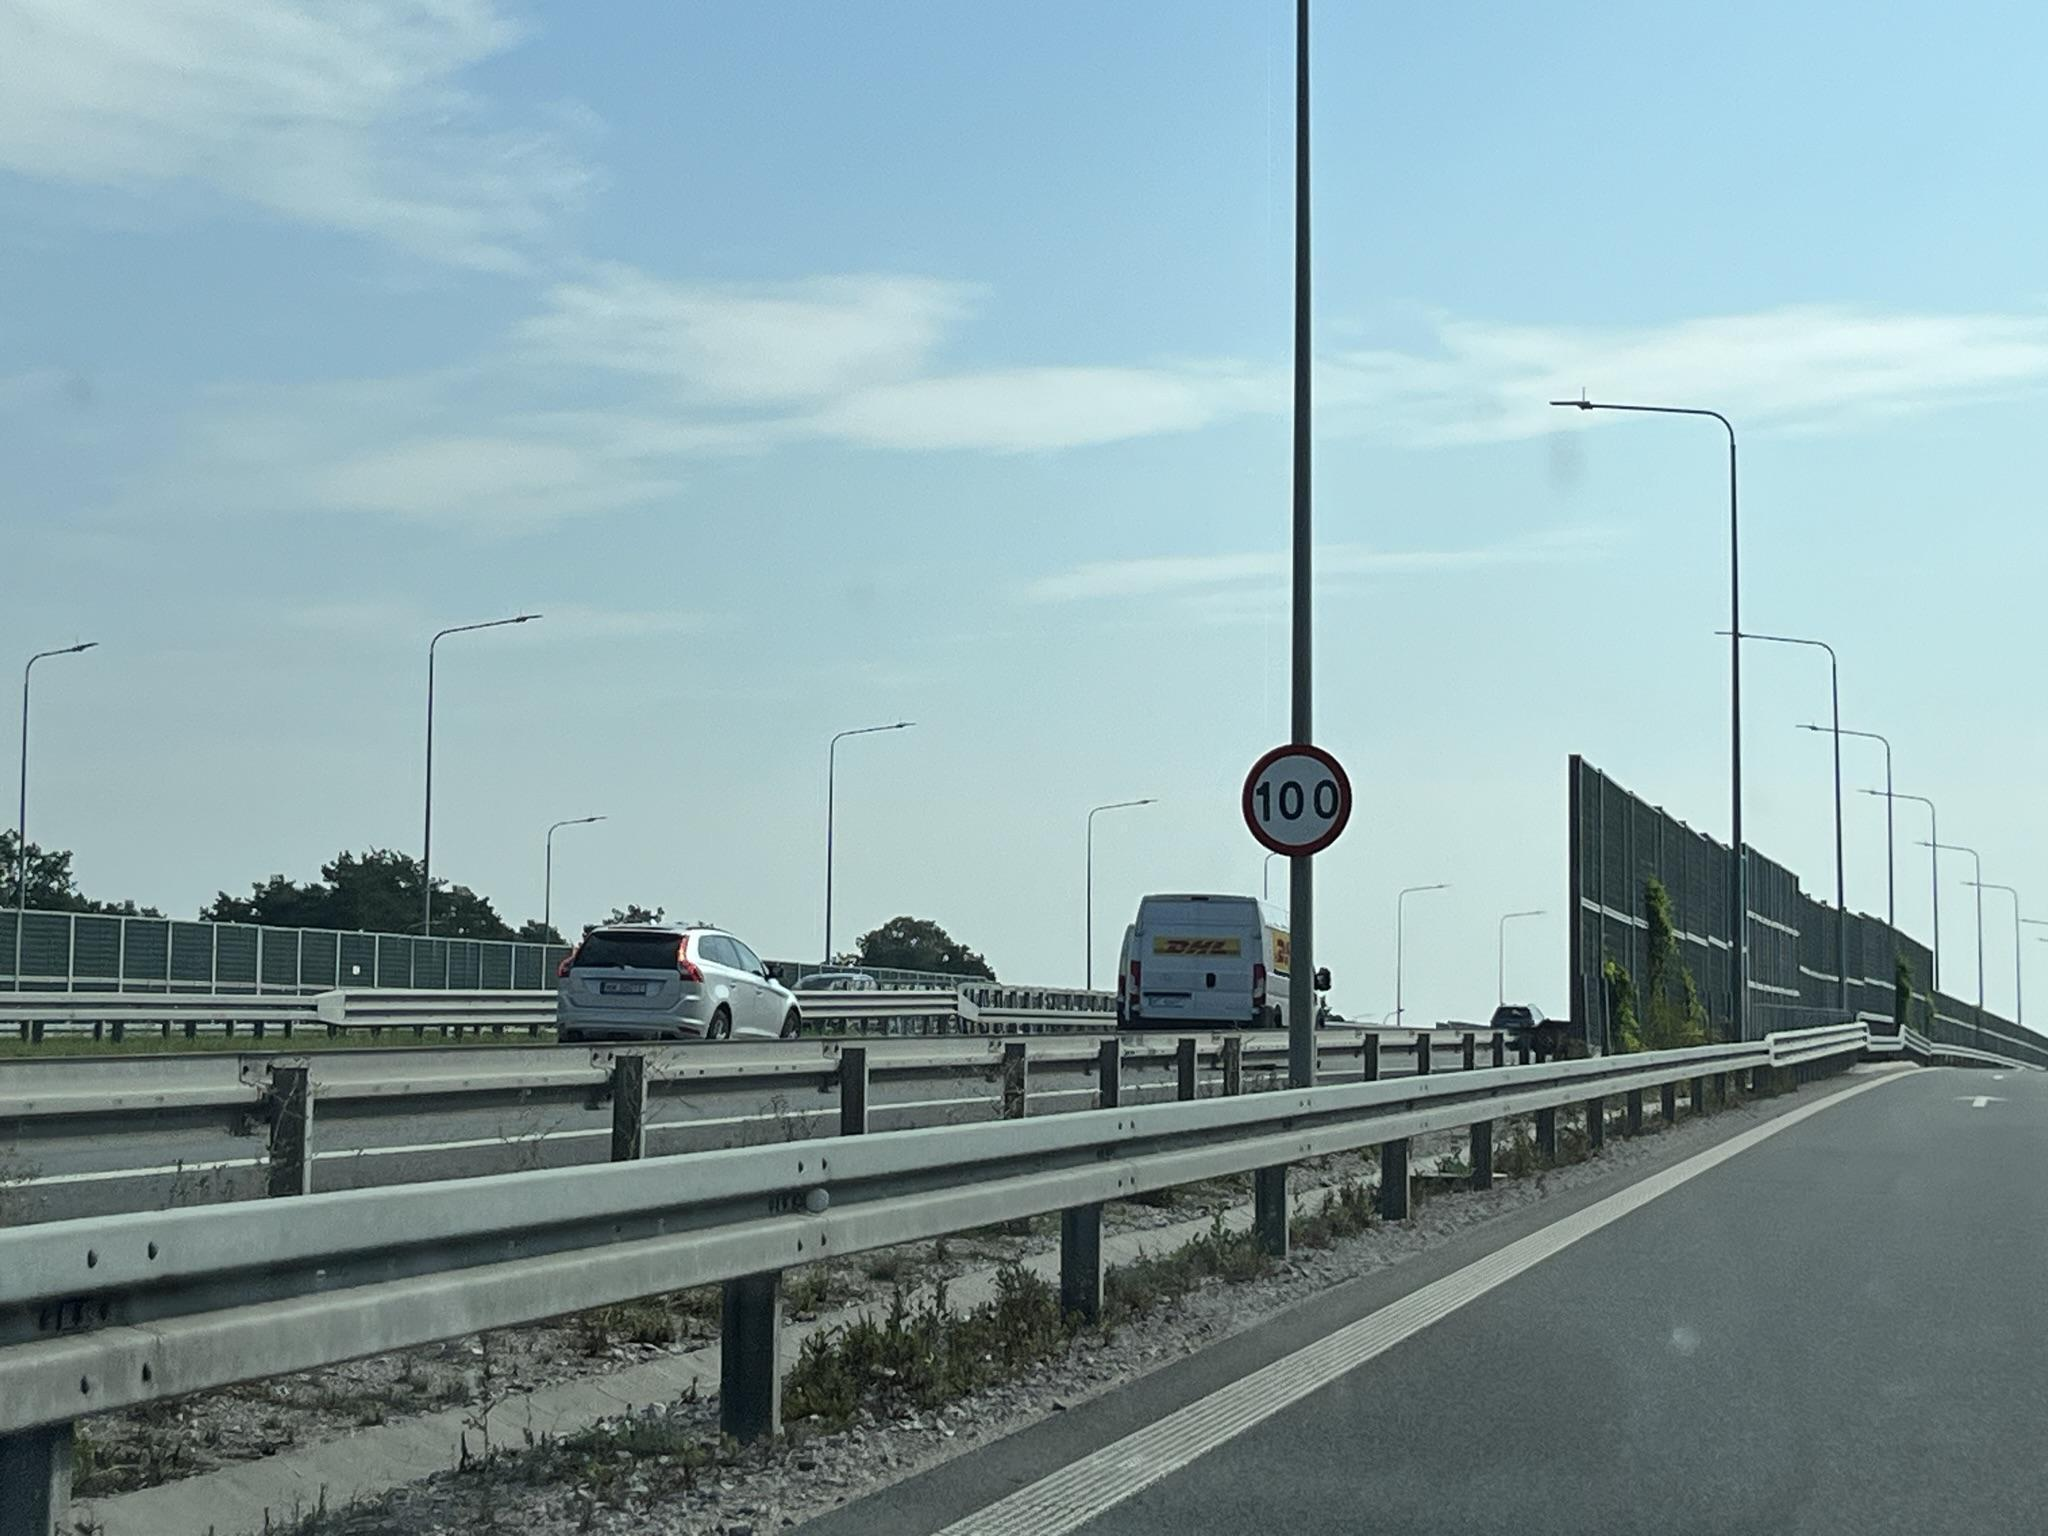prohibitory: (1240, 744, 1355, 858)
